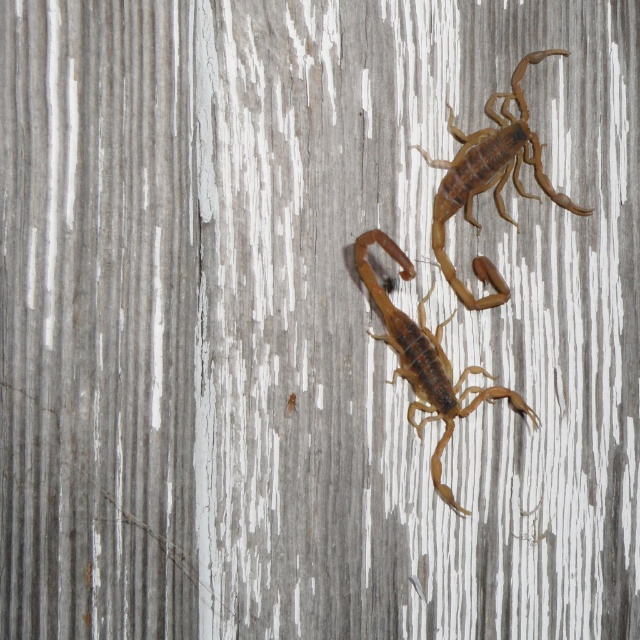Scorpion: (348, 223, 544, 516), (349, 224, 544, 515), (410, 46, 596, 311)
